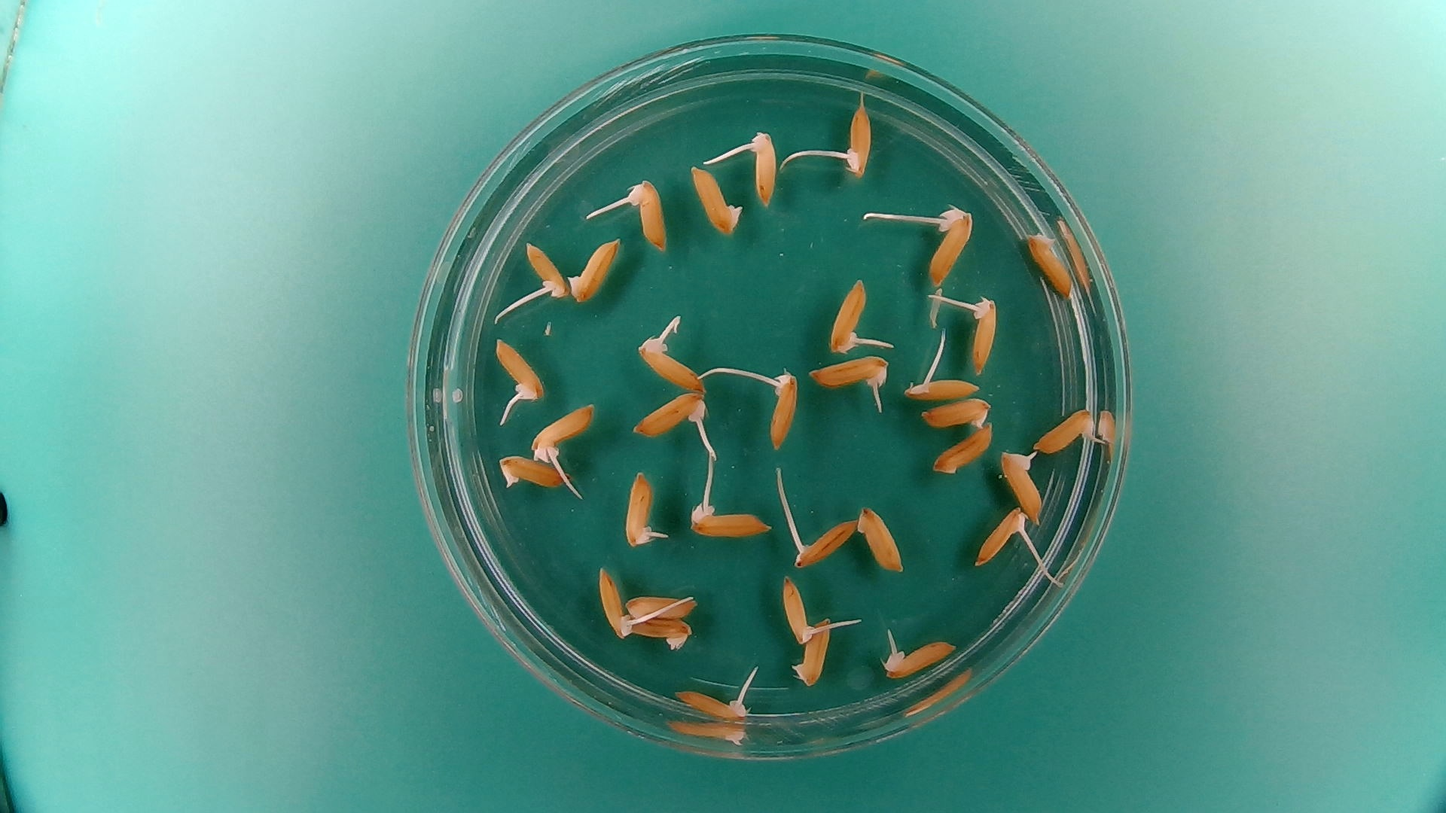no: (689, 164, 744, 235), (566, 234, 621, 305), (1025, 226, 1077, 300), (856, 506, 908, 576), (929, 424, 996, 477), (793, 620, 836, 689), (496, 453, 566, 491), (917, 397, 993, 430), (624, 592, 700, 622), (630, 621, 697, 651)
yes: (528, 398, 597, 461), (628, 391, 712, 440), (631, 340, 705, 394), (791, 512, 856, 570), (493, 335, 546, 406), (975, 507, 1031, 572), (926, 207, 974, 282), (998, 447, 1045, 522), (685, 500, 770, 539), (1033, 405, 1099, 455), (621, 472, 662, 550), (880, 637, 956, 679), (520, 238, 569, 303), (827, 276, 868, 353), (630, 176, 669, 252), (808, 357, 892, 392), (673, 685, 749, 722), (779, 573, 817, 647), (767, 370, 801, 450), (596, 566, 631, 642), (967, 294, 1000, 370), (840, 101, 874, 173), (751, 131, 782, 204), (904, 376, 982, 402)
